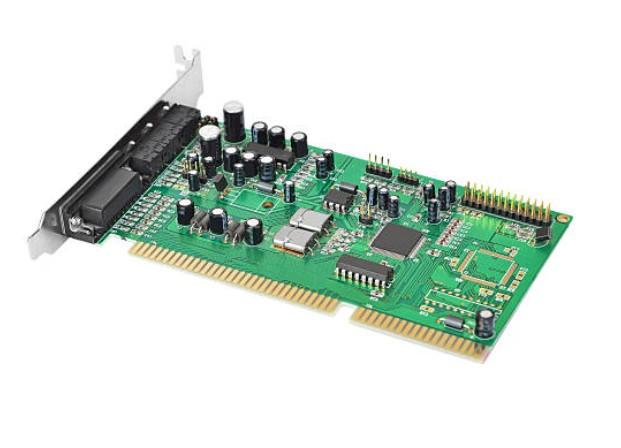Printed Circuit Board PCB: (29, 96, 572, 356)
